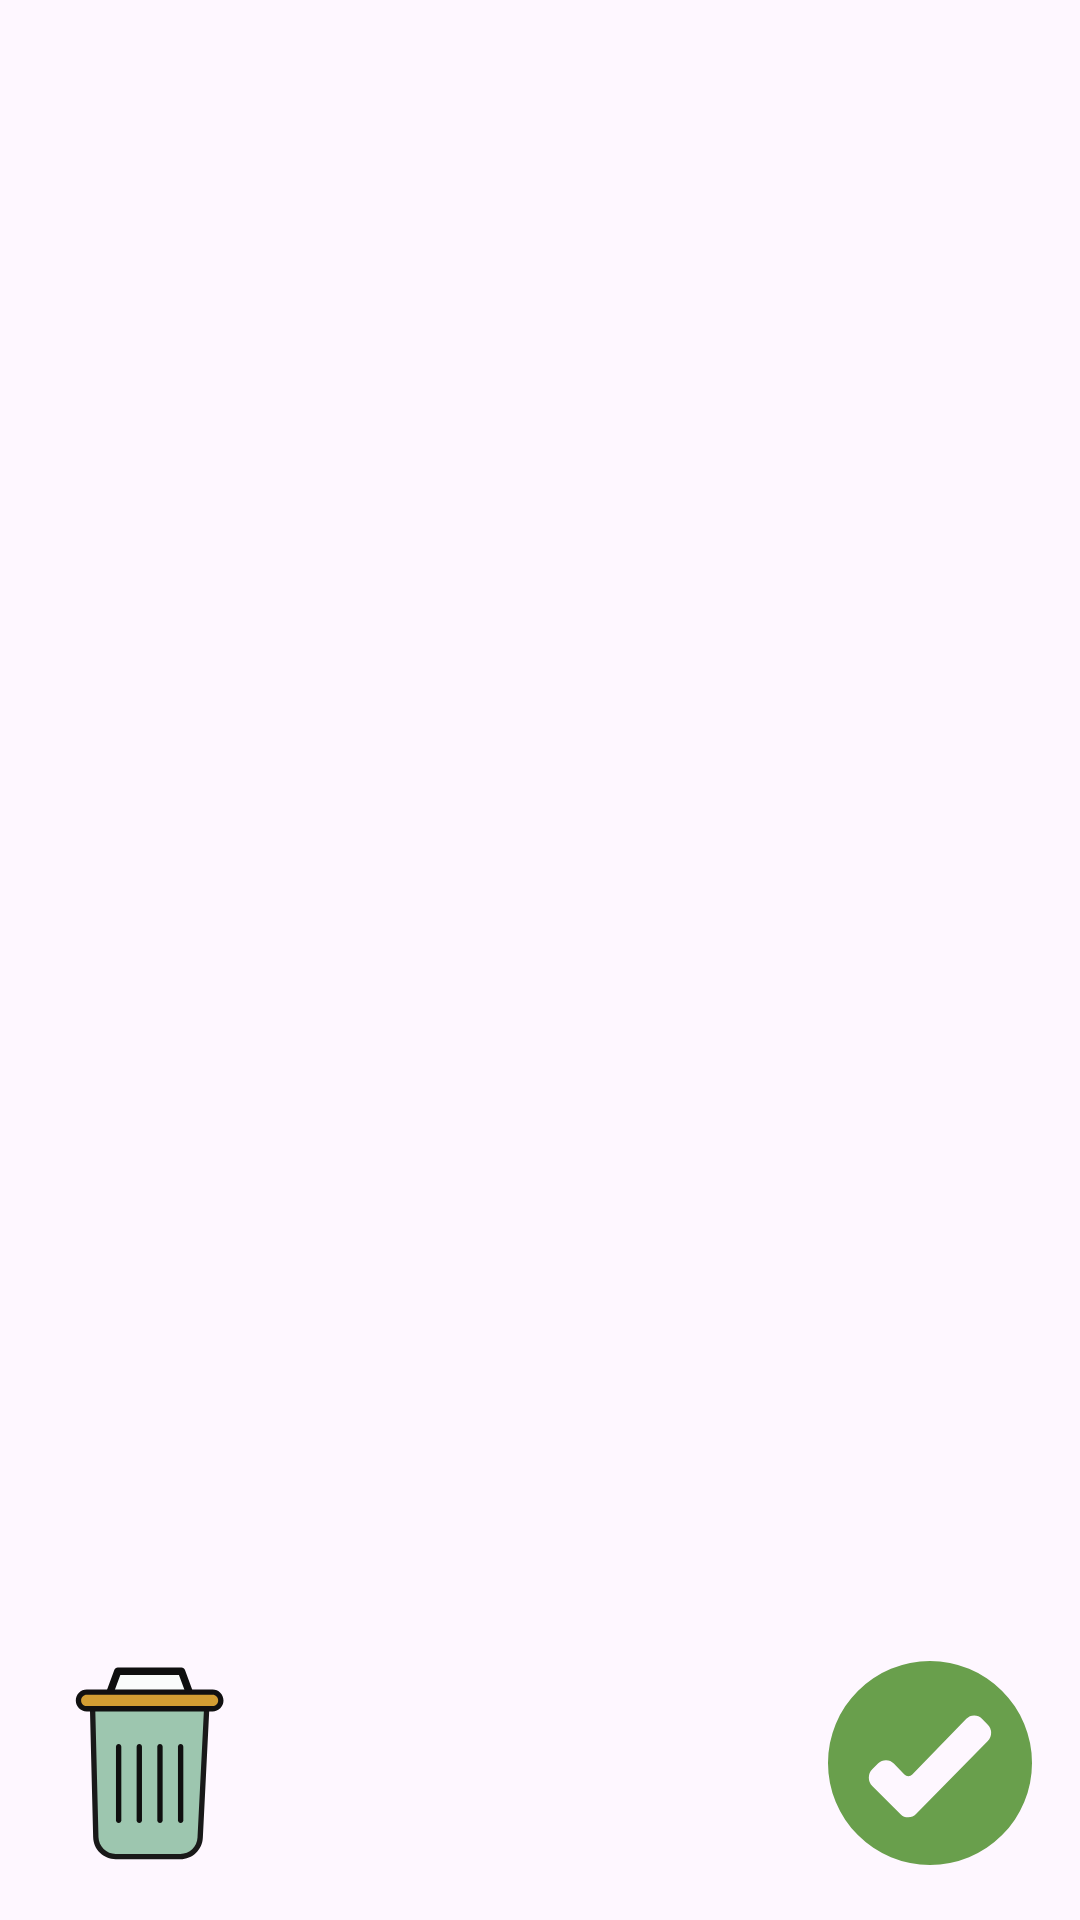

Screen size 1080px x 1920px. Icon name, then its box in pixels as [x1=x1, y1=y1, x2=x2, y2=y2]:
check: [x1=828, y1=1661, x2=1032, y2=1865]
delete: [x1=75, y1=1667, x2=224, y2=1860]
